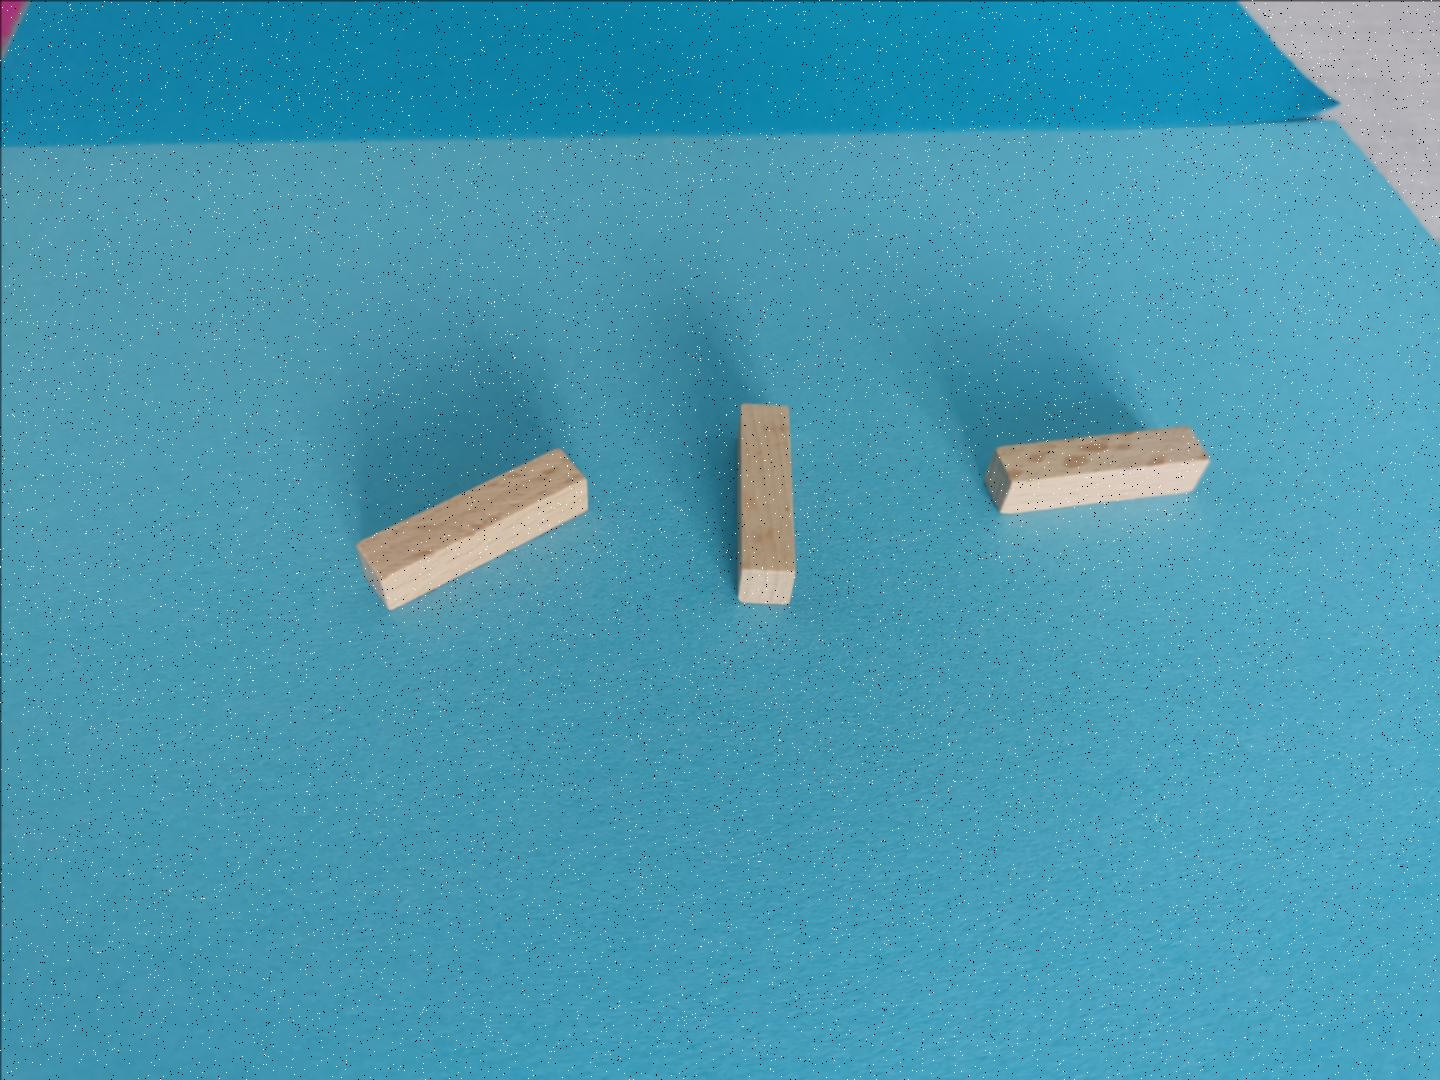jenga: (357, 447, 587, 608), (984, 424, 1206, 512), (737, 403, 793, 605)
